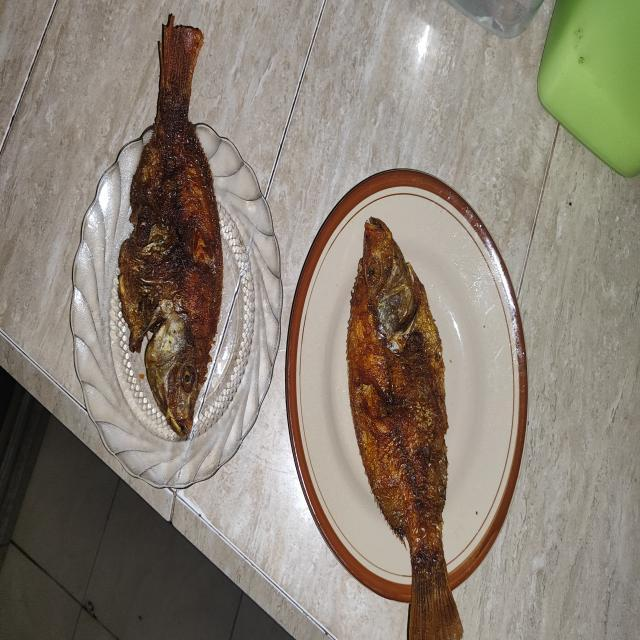ikan_mujair: (347, 217, 462, 640), (121, 16, 223, 436)
